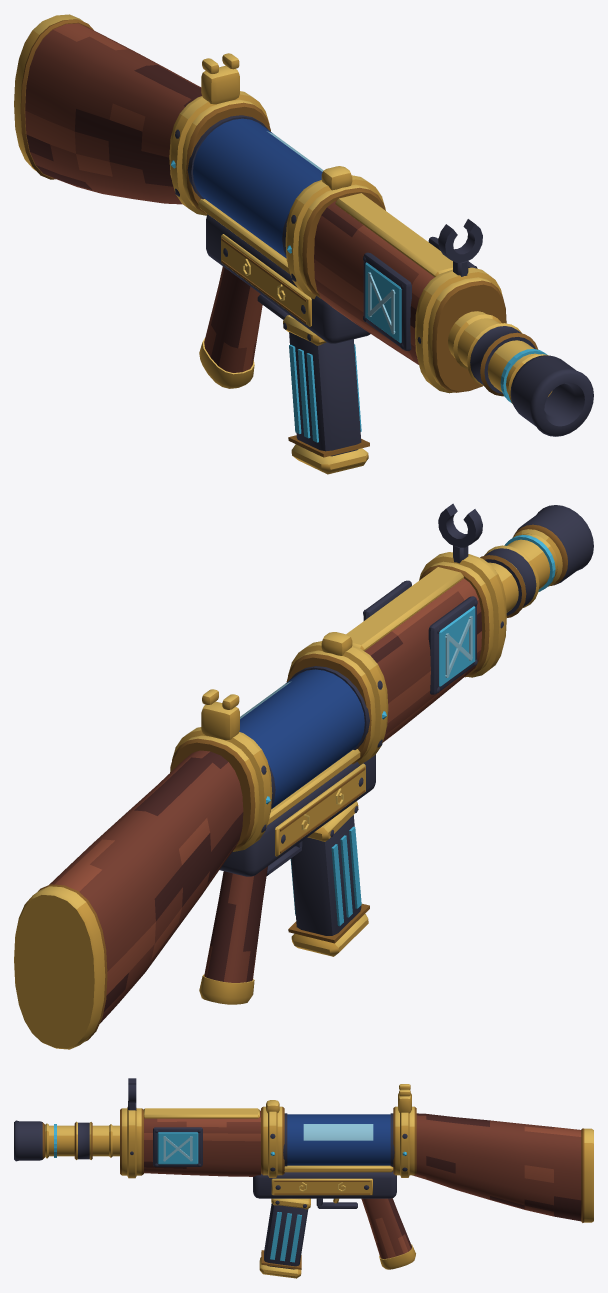
Rendered from rifle.glb.
3 views of the same model, one above another, from view 1: azimuth 30°, elevation 25°; view 2: azimuth 150°, elevation 25°; view 3: azimuth 270°, elevation 25° (orthographic). The views are drawn at different scales.
Visible parts, largest first — view 1: Body, Stock, Chamber, Mag, Muzzle, Runes; view 2: Body, Stock, Chamber, Mag, Runes, Muzzle; view 3: Body, Stock, Chamber, Mag, Runes, Muzzle.
Part boxes in pixels (x1,y1,x2,y2): Body: (169, 53, 552, 403); Stock: (14, 14, 201, 204); Chamber: (193, 118, 323, 258); Mag: (283, 315, 369, 474); Muzzle: (510, 355, 593, 436); Runes: (171, 160, 547, 442); Body: (170, 503, 562, 1004); Stock: (14, 750, 243, 1049); Chamber: (239, 669, 364, 809); Mag: (288, 801, 369, 956); Runes: (266, 535, 555, 926); Muzzle: (513, 505, 593, 585); Body: (45, 1078, 416, 1269); Stock: (412, 1113, 593, 1222); Chamber: (287, 1114, 390, 1165); Mag: (259, 1198, 310, 1278); Runes: (54, 1124, 406, 1262); Muzzle: (14, 1120, 44, 1161).
Size of the model in its own units: 0.1233 by 0.3981 by 1.09.
